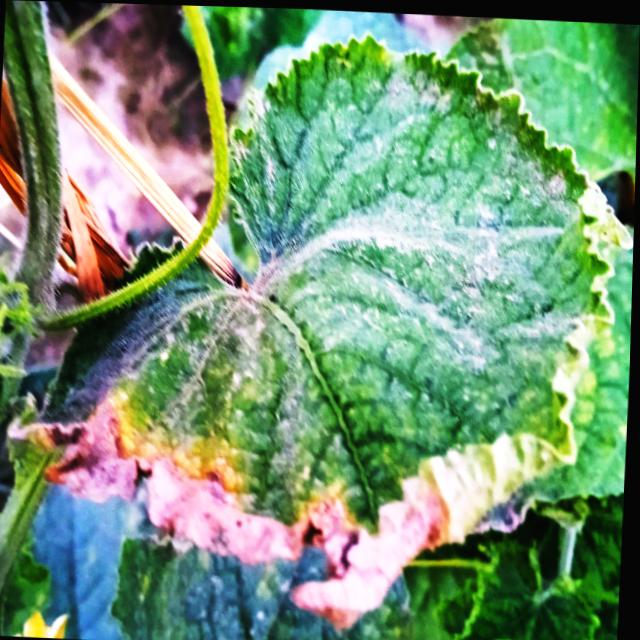Gummy-Stem-Blight: (1, 395, 447, 639)
